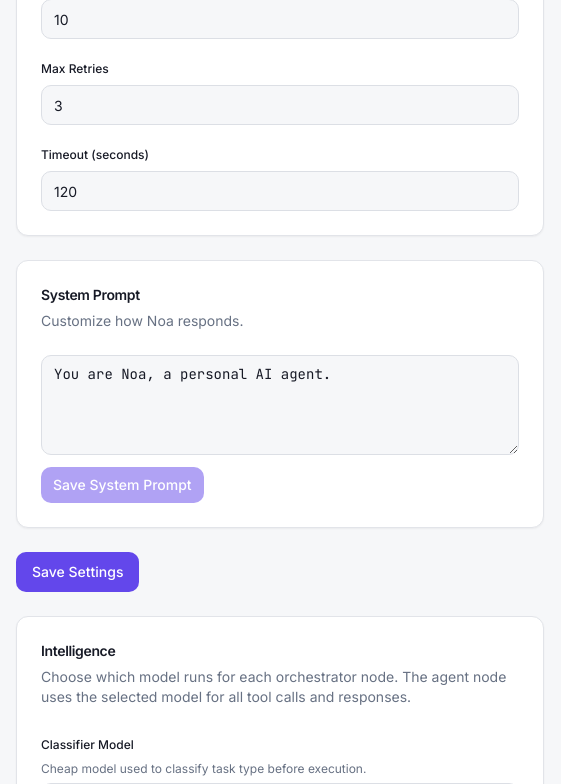
Test case: UX-H3: System prompt section in Settings page › Save button becomes enabled when system prompt text changes
This screenshot has width=561, height=784.
(page scrolled)
Replace the text in the text box with test id "system-prompt-textarea" with "Custom prompt text" at (280, 405), box [41,355,519,455]
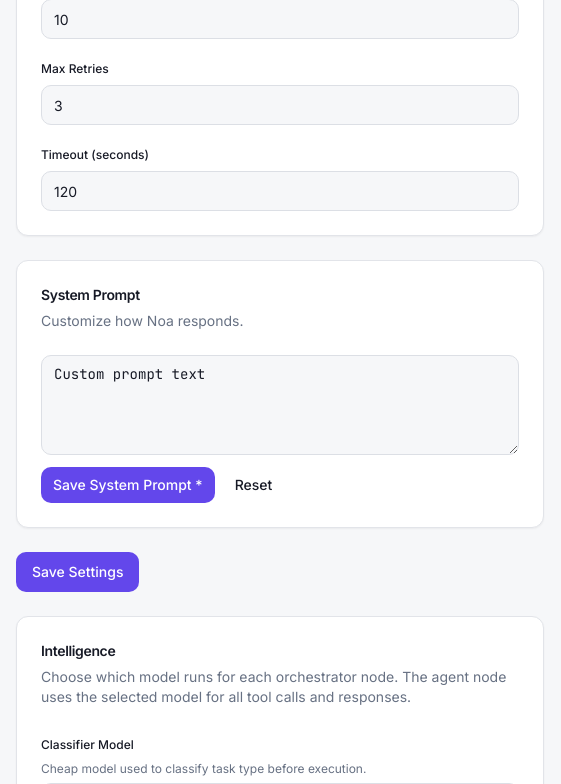
Result: the button with test id "system-prompt-save" is enabled at [41,467,215,503]
